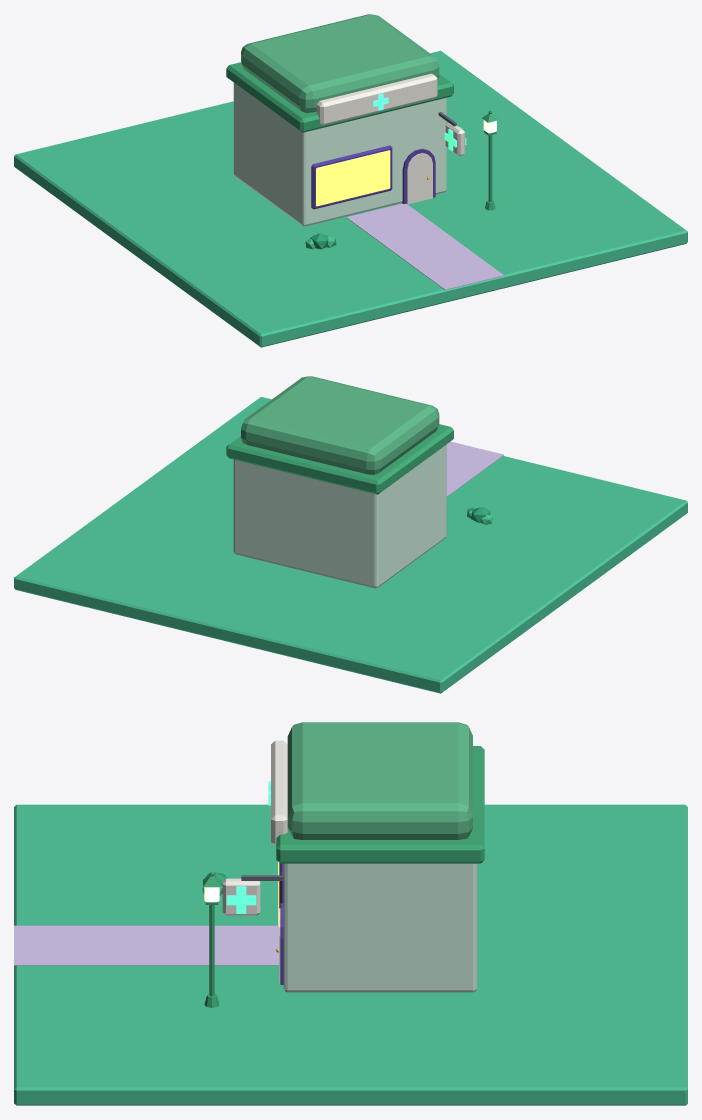
File: bld_pharmacy.glb
The picture shows the model from 3 angles, top to bottom: view 1: azimuth 30°, elevation 25°; view 2: azimuth 150°, elevation 25°; view 3: azimuth 270°, elevation 25°; orthographic projection. The views are drawn at different scales.
Visible parts, largest first — view 1: bld_pharmacy; view 2: bld_pharmacy; view 3: bld_pharmacy.
Part boxes in pixels (x1,y1,x2,y2): bld_pharmacy: [14, 14, 687, 347]; bld_pharmacy: [14, 376, 687, 693]; bld_pharmacy: [14, 722, 687, 1105].
Size of the model in its own units: 16 by 5.28 by 16.
